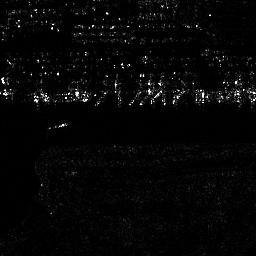ship: (28, 88, 92, 105)
